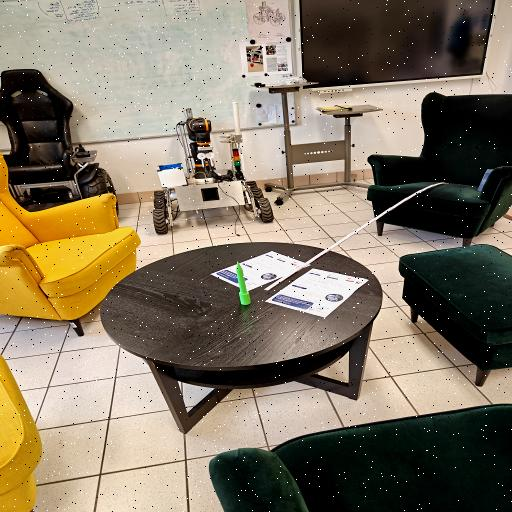Probe-Detection: (236, 262, 251, 305)
